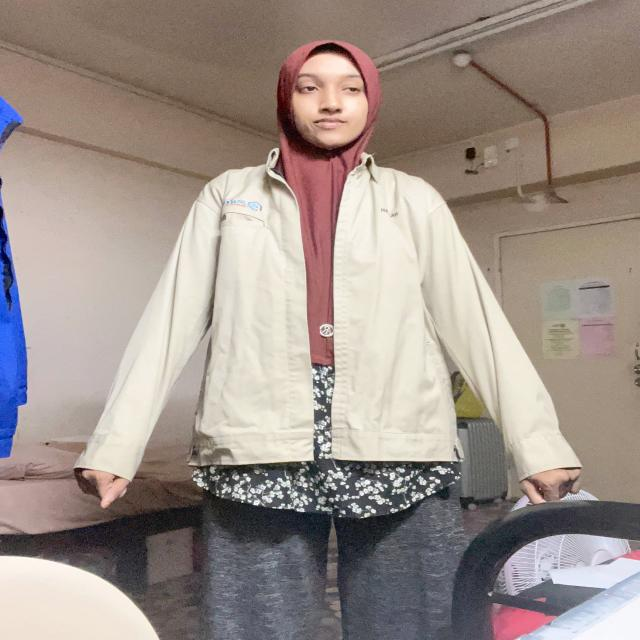person_with_labcoat: (76, 40, 580, 640)
